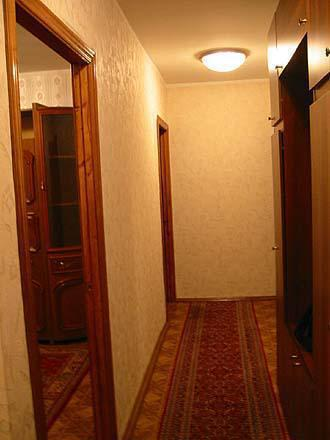Armario: (264, 21, 329, 421)
